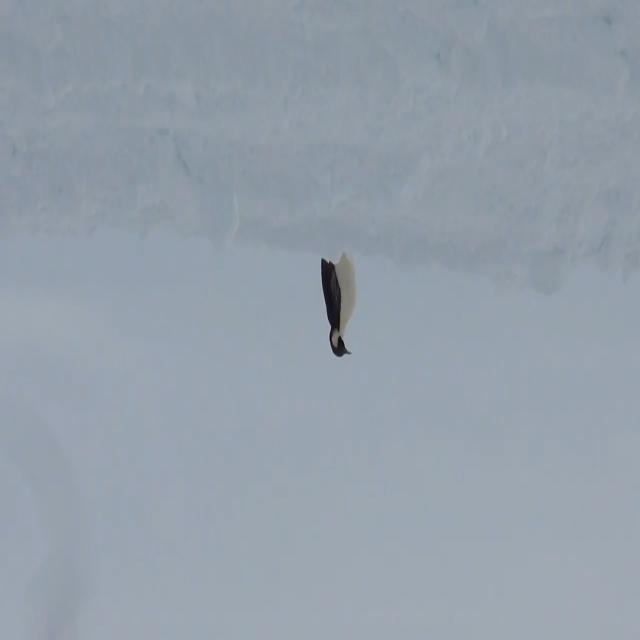penguin: (320, 250, 356, 358)
